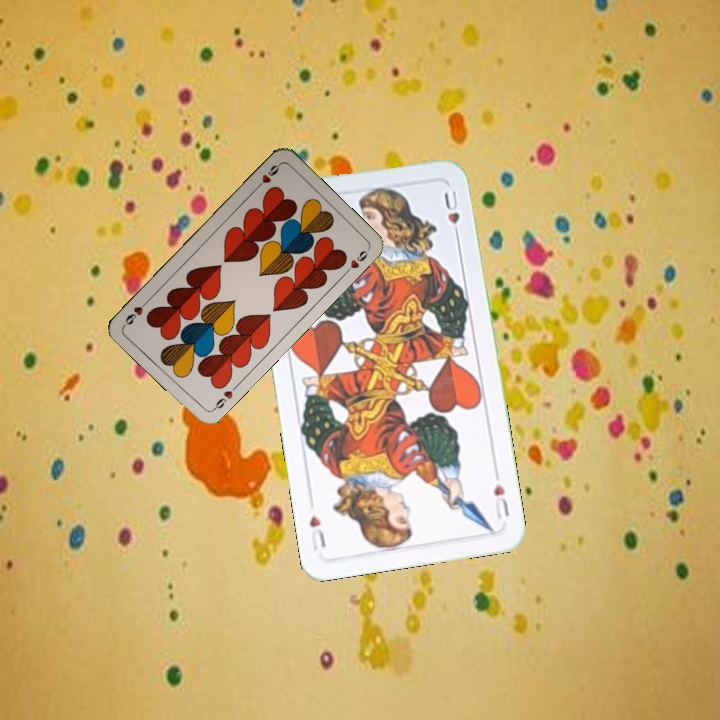H9: (251, 160, 283, 192), (209, 381, 240, 414)
HU: (489, 479, 512, 521)
